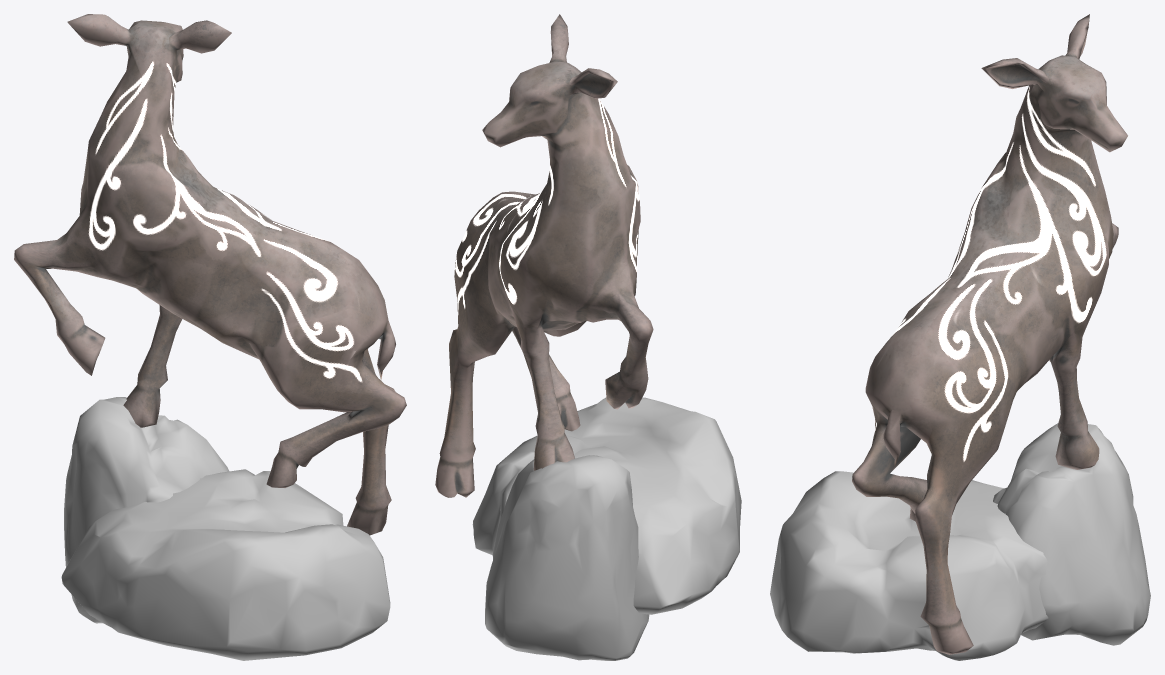
File: MDL_StagStone.fbx
3 views of the same model, side by side, from view 1: azimuth 30°, elevation 25°; view 2: azimuth 150°, elevation 25°; view 3: azimuth 270°, elevation 25° (orthographic).
Visible parts, largest first — view 1: pasted__deer_stone, pasted__stone_platfor_p1_low, pasted__stone_platfor_p2_low; view 2: pasted__deer_stone, pasted__stone_platfor_p2_low, pasted__stone_platfor_p1_low; view 3: pasted__deer_stone, pasted__stone_platfor_p1_low, pasted__stone_platfor_p2_low.
Boxes of the visible parts, x1=… form: pasted__deer_stone: x1=14, y1=14, x2=406, y2=535; pasted__stone_platfor_p1_low: x1=61, y1=469, x2=390, y2=660; pasted__stone_platfor_p2_low: x1=64, y1=397, x2=229, y2=623; pasted__deer_stone: x1=435, y1=14, x2=653, y2=497; pasted__stone_platfor_p2_low: x1=485, y1=455, x2=649, y2=660; pasted__stone_platfor_p1_low: x1=472, y1=397, x2=741, y2=614; pasted__deer_stone: x1=852, y1=14, x2=1127, y2=654; pasted__stone_platfor_p1_low: x1=770, y1=471, x2=1048, y2=660; pasted__stone_platfor_p2_low: x1=993, y1=423, x2=1150, y2=645.
Size of the model in its own units: 140 by 274 by 157.
